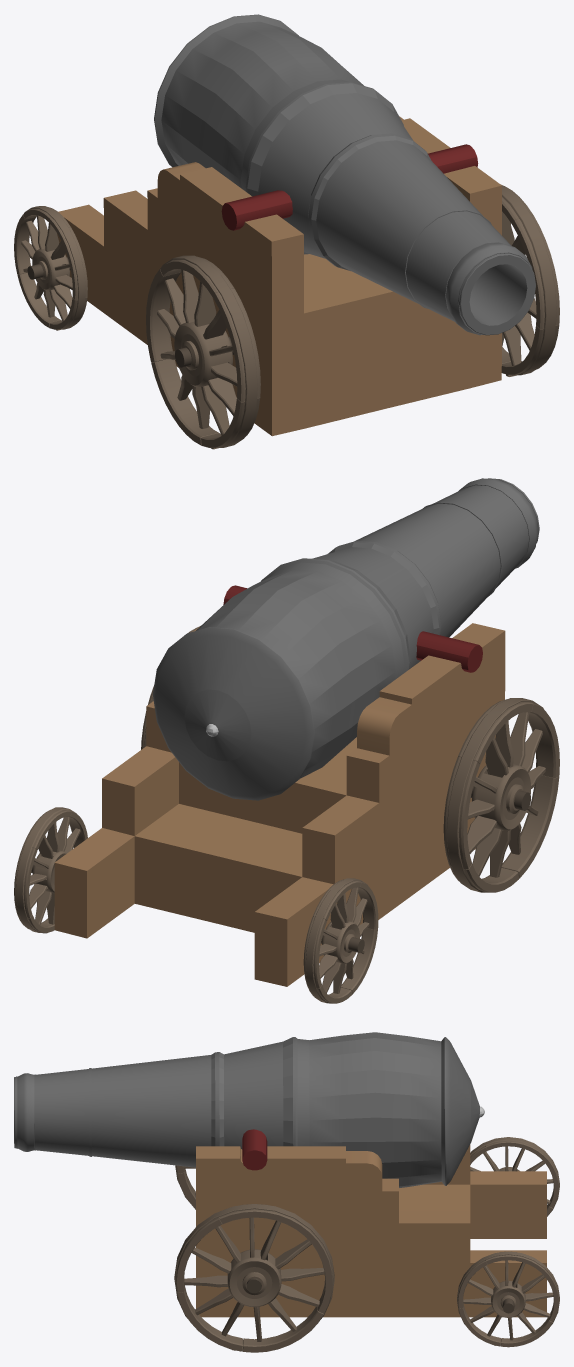
File: cann4.fbx
3 views of the same model, one above another, from view 1: azimuth 30°, elevation 25°; view 2: azimuth 150°, elevation 25°; view 3: azimuth 270°, elevation 25° (orthographic). The views are drawn at different scales.
Visible parts, largest first — view 1: pCylinder1, polySurface11, polySurface128, polySurface104, pCube7, pCube4; view 2: polySurface11, pCylinder1, polySurface128, polySurface104, pCube7; view 3: pCylinder1, polySurface11, polySurface128, polySurface104, pCube4.
Part boxes in pixels (box(x1,y1,x2,y2)): pCylinder1: box(154, 14, 535, 335); polySurface11: box(57, 116, 501, 436); polySurface128: box(146, 184, 559, 449); polySurface104: box(14, 206, 87, 330); pCube7: box(221, 190, 292, 230); pCube4: box(428, 144, 478, 173); polySurface11: box(54, 623, 505, 986); pCylinder1: box(153, 478, 539, 800); polySurface128: box(141, 626, 559, 892); polySurface104: box(14, 807, 378, 1003); pCube7: box(416, 631, 482, 672); pCylinder1: box(14, 1032, 479, 1187); polySurface11: box(196, 1144, 546, 1317); polySurface128: box(174, 1165, 334, 1352); polySurface104: box(457, 1137, 559, 1347); pCube4: box(242, 1129, 267, 1170).
Bounding box in the file's own units: 286 × 246 × 483.
